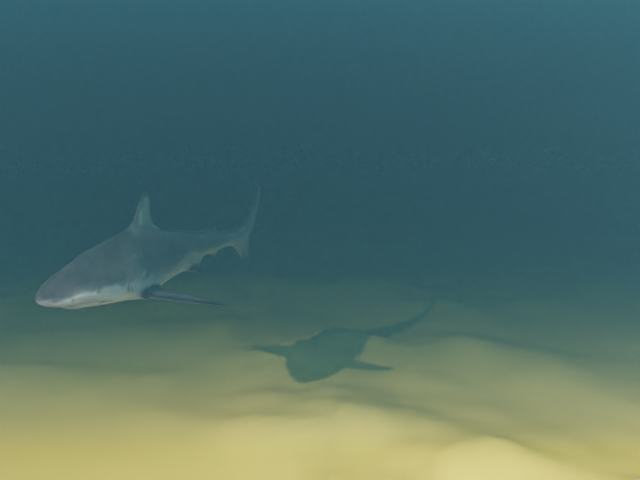Carribean Shark.001: (35, 179, 260, 309)
